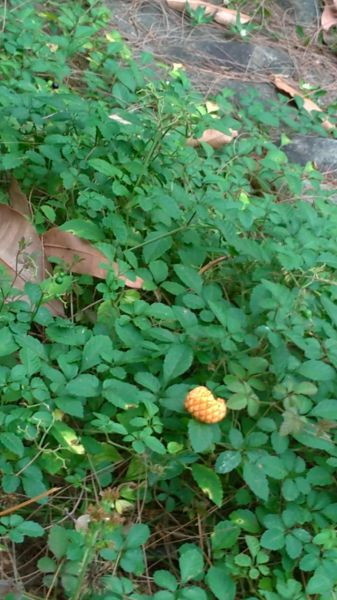eggs: (181, 384, 230, 428)
